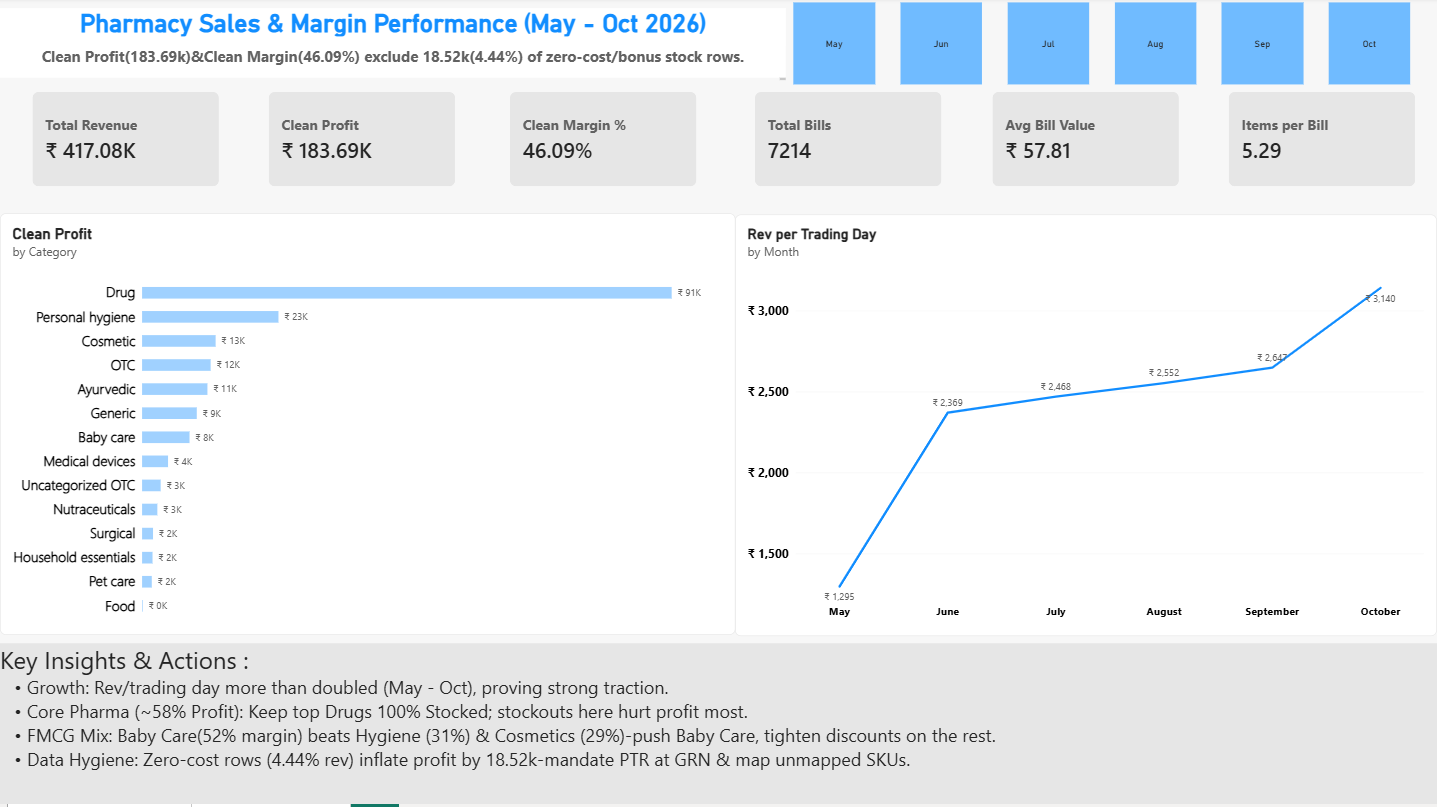

What the dashboard file says about the page in this screenshot:
{"tool":"powerbi","page":{"name":"Executive Summary","canvas":[1920,1080],"ordinal":0},"visuals":[{"type":"lineChart","fields":{"Category":["fact_pharmacy_sales.Bill_Date.Variation.Date Hierarchy.Month"],"Y":["fact_pharmacy_sales.Rev per Trading Day"]},"box":[981.8,290.5,937.4,562.8],"z":0},{"type":"clusteredBarChart","fields":{"Category":["fact_pharmacy_sales.Category"],"Y":["fact_pharmacy_sales.Clean Profit"]},"box":[0,289.5,982.6,562.8],"z":1000},{"type":"textbox","title":"Pharmacy Sales & Margin Performance (May - Oct 2026)","box":[0,14.5,1049.6,95.9],"z":2000},{"type":"cardVisual","fields":{"Data":["fact_pharmacy_sales.Total Revenue"]},"box":[43.4,126.7,249.7,126.7],"z":3000},{"type":"cardVisual","fields":{"Data":["fact_pharmacy_sales.Clean Profit"]},"box":[358.3,126.7,249.7,126.7],"z":4000},{"type":"cardVisual","fields":{"Data":["fact_pharmacy_sales.Clean Margin %"]},"box":[680.4,126.7,249.7,126.7],"z":5000},{"type":"cardVisual","fields":{"Data":["fact_pharmacy_sales.Total Bills"]},"box":[1008,126.7,249.7,126.7],"z":6000},{"type":"cardVisual","fields":{"Data":["fact_pharmacy_sales.Avg Bill Value"]},"box":[1326.5,126.7,249.7,126.7],"z":7000},{"type":"cardVisual","fields":{"Data":["fact_pharmacy_sales.Items per Bill"]},"box":[1641.4,126.7,249.7,126.7],"z":8000},{"type":"advancedSlicerVisual","fields":{"Values":["fact_pharmacy_sales.Month_Name"]},"box":[1026.1,0,894,126.7],"z":9000},{"type":"textbox","box":[0,863.2,1920.1,217.2],"z":10000}]}

Visuals, with their boxes in screenshot pixels (x1, y1, x2, y2), scaled from the page's 1920x1080 canvas onto the 1437x807 screenshot:
lineChart - fact_pharmacy_sales.Bill_Date.Variation.Date Hierarchy.Month x fact_pharmacy_sales.Rev per Trading Day: 735/217/1436/638
clusteredBarChart - fact_pharmacy_sales.Category x fact_pharmacy_sales.Clean Profit: 0/216/735/637
"Pharmacy Sales & Margin Performance (May - Oct 2026)" textbox: 0/11/786/82
cardVisual - fact_pharmacy_sales.Total Revenue: 32/95/219/189
cardVisual - fact_pharmacy_sales.Clean Profit: 268/95/455/189
cardVisual - fact_pharmacy_sales.Clean Margin %: 509/95/696/189
cardVisual - fact_pharmacy_sales.Total Bills: 754/95/941/189
cardVisual - fact_pharmacy_sales.Avg Bill Value: 993/95/1180/189
cardVisual - fact_pharmacy_sales.Items per Bill: 1228/95/1415/189
advancedSlicerVisual - fact_pharmacy_sales.Month_Name: 768/0/1436/95
textbox: 0/645/1436/806
